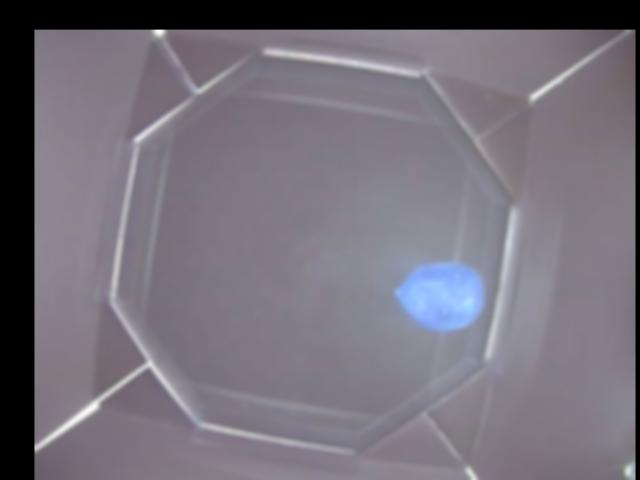Potato: (395, 255, 482, 331)
